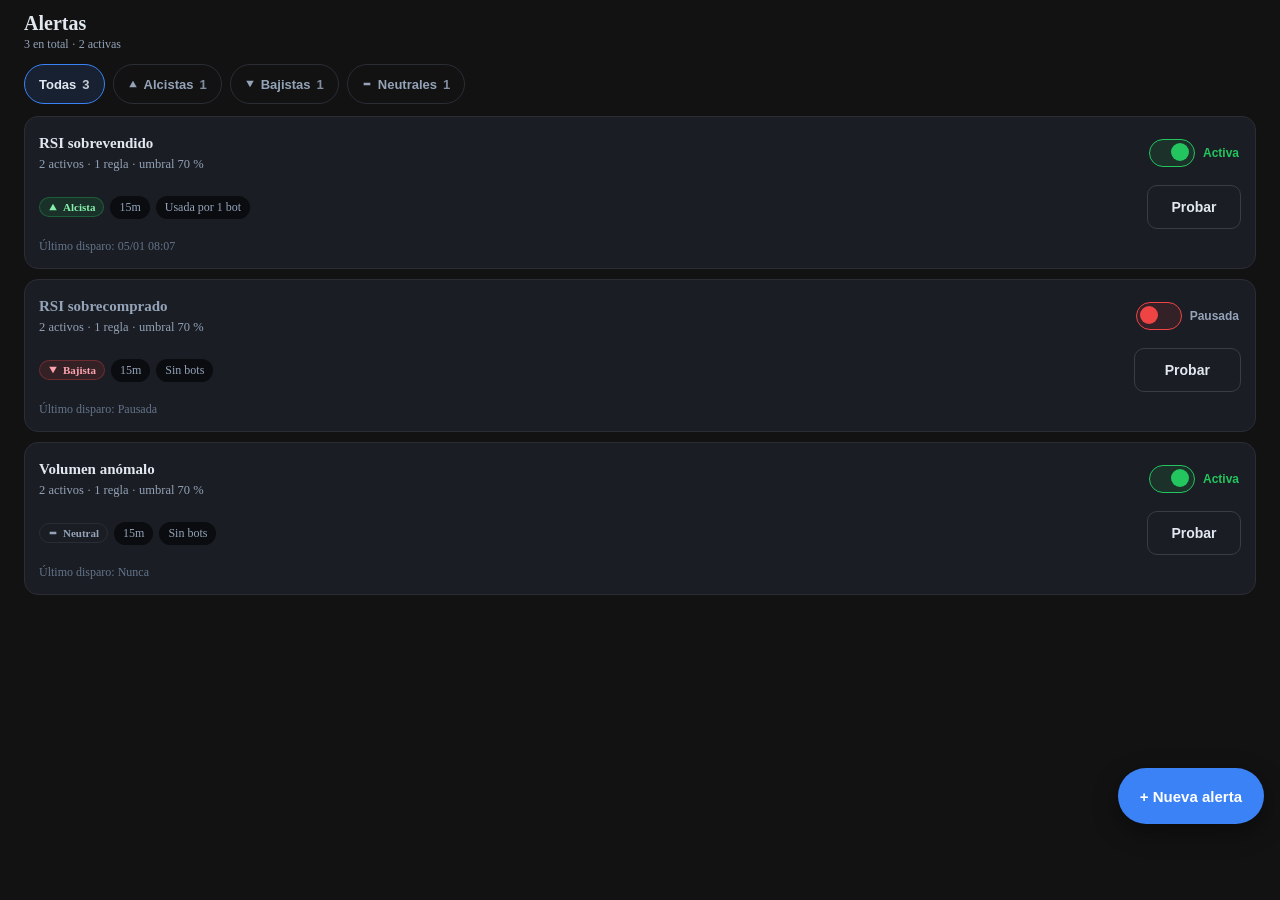
Test: MobileAlertList › Probar abre la hoja con la puntuación
This screenshot has width=1280, height=900.
Click the button "Probar" in the row of "Usada por 1 bot" at (1194,207), box [1147,185,1241,229]
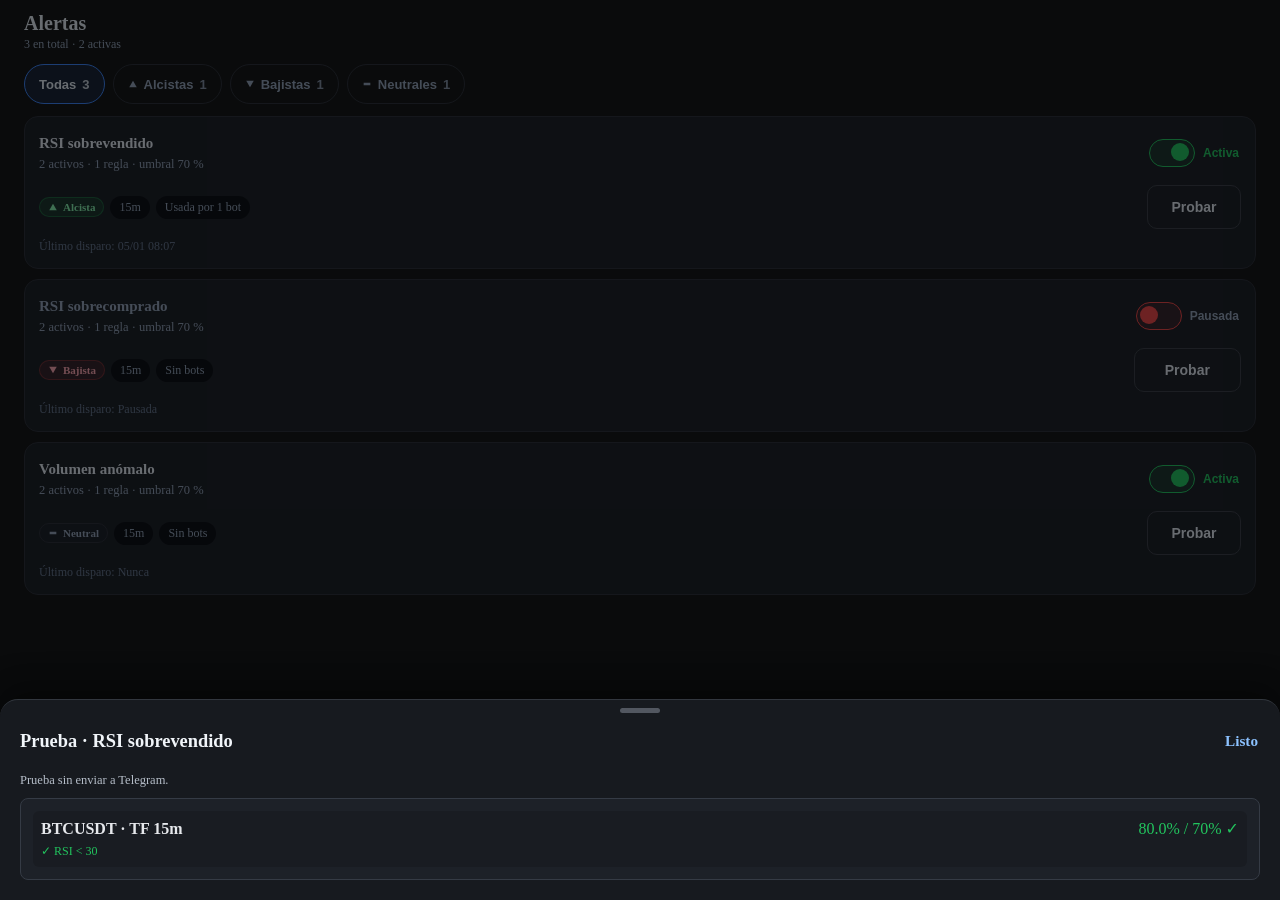
Check: the text "80.0% / 70% ✓" is shown, box [1138,819,1239,838]
Check: the text "✓ RSI < 30" is shown, box [41,844,98,858]
